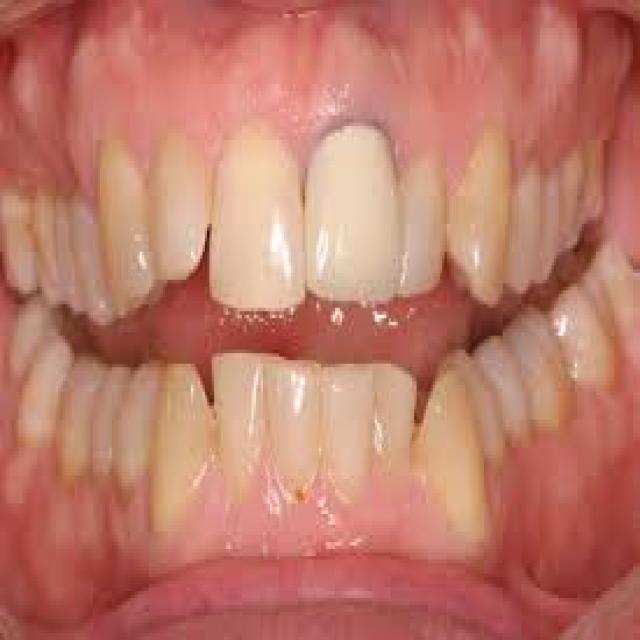Tooth Discoloration: (288, 94, 396, 200)
